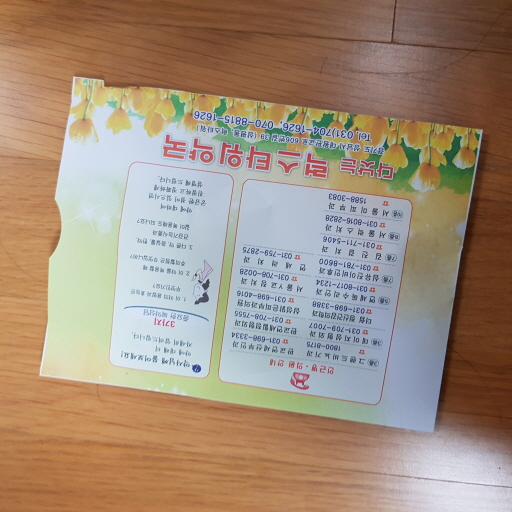Paper_2: (31, 63, 484, 440)
